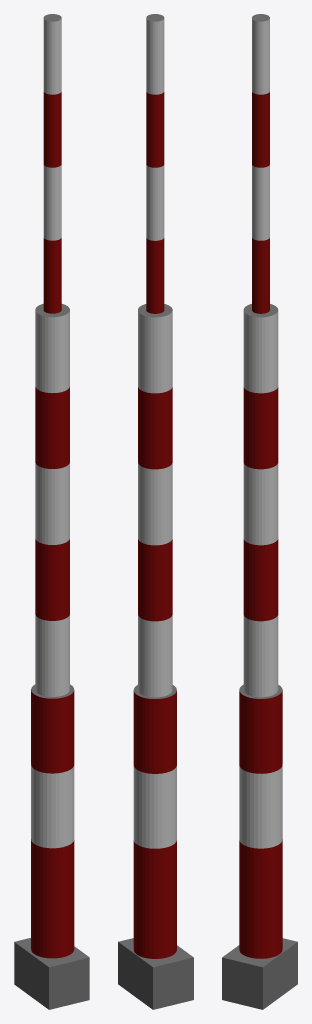
The model's file is BridgeBarrier.obj.
3 renders of one model, left to right at view 1: azimuth 30°, elevation 25°; view 2: azimuth 210°, elevation 25°; view 3: azimuth 330°, elevation 25°, orthographic.
Parts seen in each view (by area): view 1: Barrier_Cylinder; view 2: Barrier_Cylinder; view 3: Barrier_Cylinder.
Part boxes in pixels (x1,y1,x2,y2): Barrier_Cylinder: (14,14,89,1009); Barrier_Cylinder: (118,14,193,1009); Barrier_Cylinder: (222,14,297,1009).
Bounding box in the file's own units: 0.3799 × 8.69 × 0.5648.
